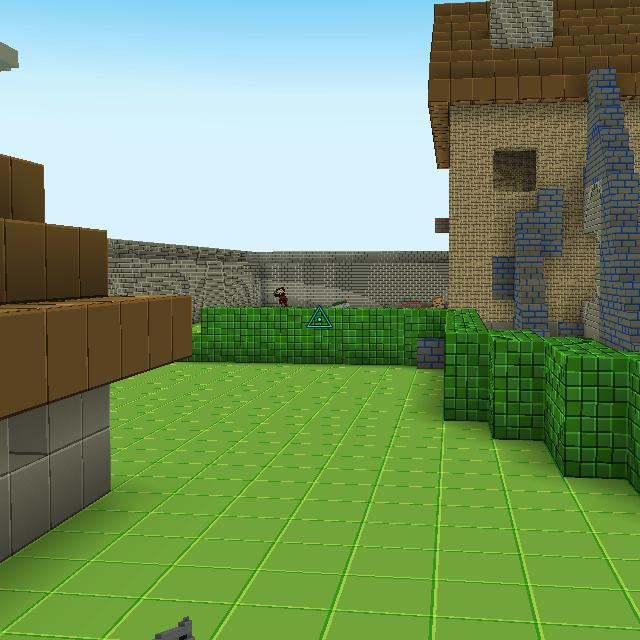enemy: (272, 286, 288, 307), (330, 299, 350, 308), (431, 296, 446, 308)
